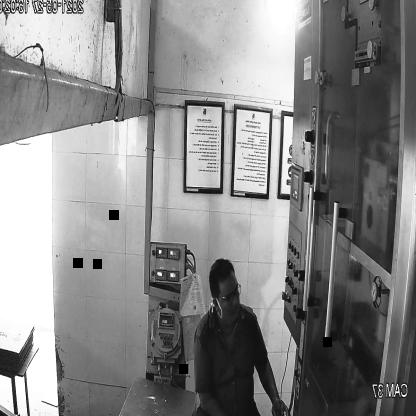goggles: (212, 279, 244, 308)
